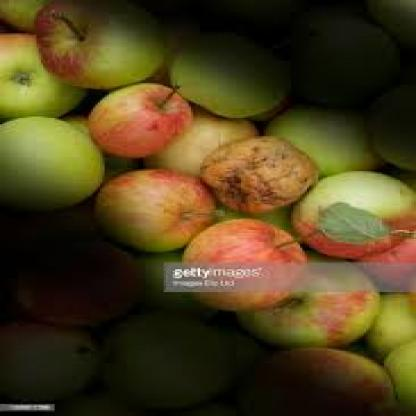apple: (164, 34, 307, 114), (84, 170, 227, 250), (3, 116, 112, 210), (178, 223, 312, 294), (282, 103, 391, 180), (0, 32, 84, 118)
damaged_apple: (195, 140, 316, 220)
